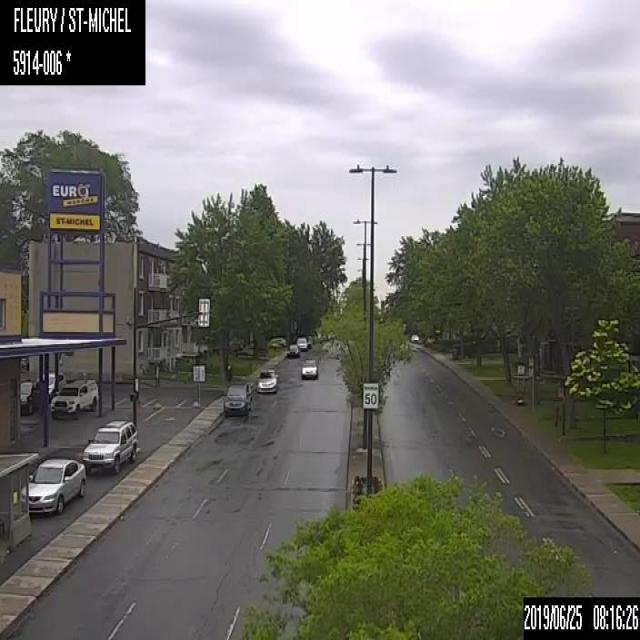vehicle: (20, 456, 86, 514), (80, 416, 140, 474), (49, 377, 98, 416), (222, 378, 250, 414), (35, 371, 65, 402), (18, 379, 40, 417), (255, 368, 276, 394), (300, 356, 318, 377), (285, 342, 299, 357), (295, 335, 308, 350)
